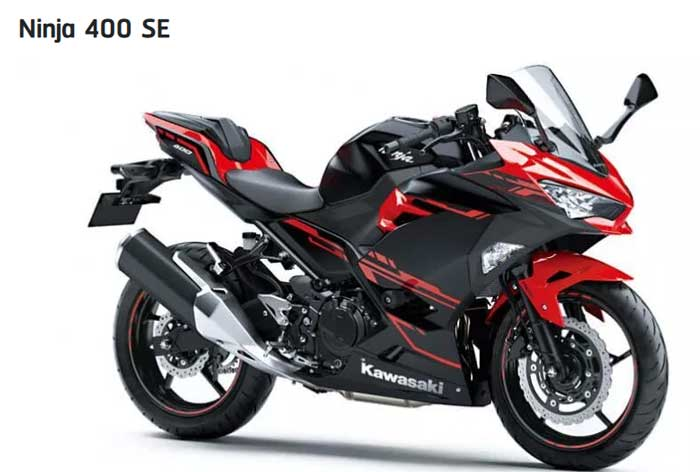motorcycle: (87, 64, 669, 468)
